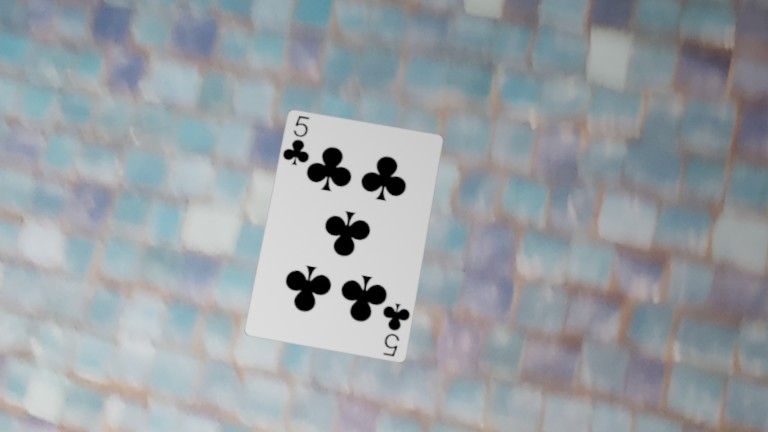5_of_clubs: (374, 300, 413, 359), (280, 113, 319, 169)
